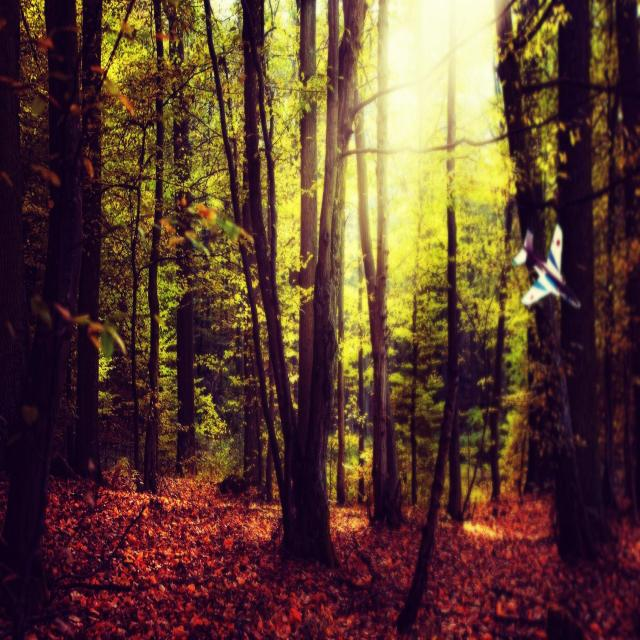airplane: (512, 223, 581, 310)
